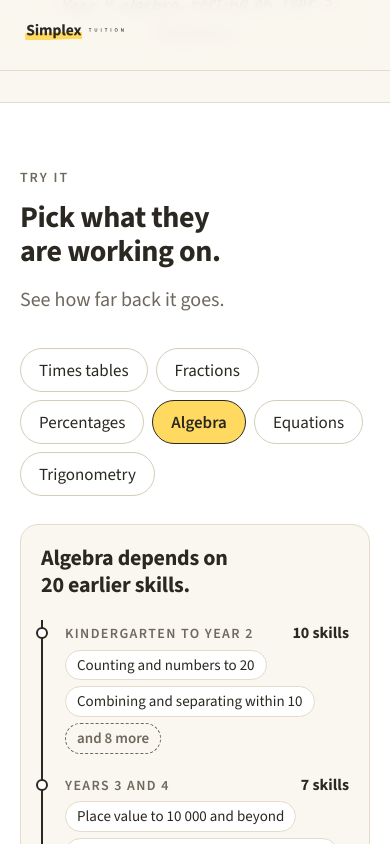
Test: Maths skills map landing — a parent arriving from a post on her phone › lets her tap a topic and see how far back it goes, with real numbers
The image size is (390, 844).
(page scrolled)
Expected: the element with test id "map-strip" shows "Algebra depends on", [41, 543, 228, 572]
Expected: the text with test id "map-strip" shows "earlier skills", [41, 570, 190, 599]
Click the button with test id "map-topic-M-78-10" at (309,422), box [254, 400, 363, 444]
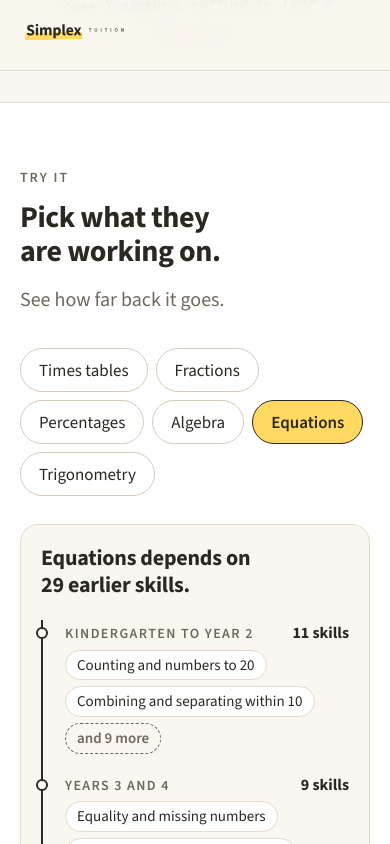
Expected: the text with test id "map-strip" reads "Kindergarten to Year 2", [65, 624, 254, 643]
Now the element with test id "map-strip" shows "Equations depends on", box [41, 543, 250, 572]
Now the number of list items with class "map-hidden" is more than 1
